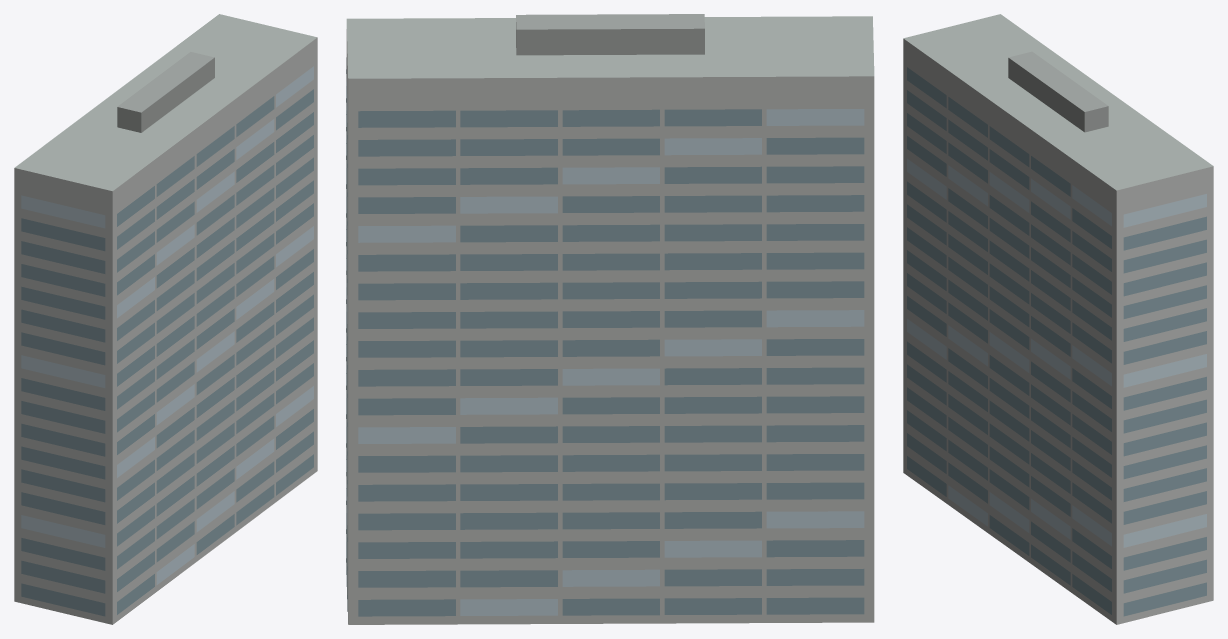
File: apt-a14319001.glb
The picture shows the model from 3 angles, left to right: view 1: azimuth 30°, elevation 25°; view 2: azimuth 150°, elevation 25°; view 3: azimuth 270°, elevation 25°; orthographic projection. The views are drawn at different scales.
Visible parts, largest first — view 1: apt-a14319001; view 2: apt-a14319001; view 3: apt-a14319001.
Part boxes in pixels (x1,y1,x2,y2): apt-a14319001: (14,14,317,624); apt-a14319001: (346,14,874,624); apt-a14319001: (903,14,1213,624).
Bounding box in the file's own units: 42.45 × 51 × 31.55.
